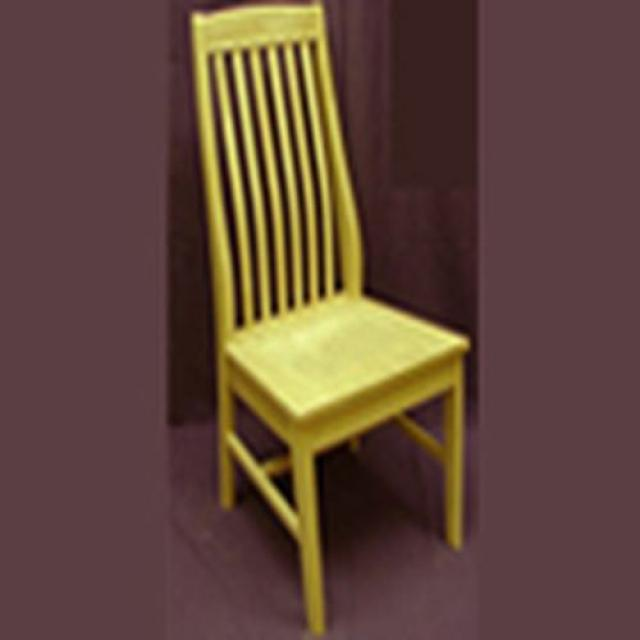chair: (188, 0, 472, 640)
